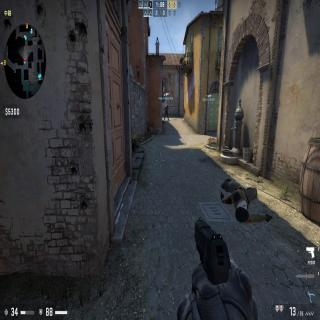CT-Body: (163, 103, 170, 121)
